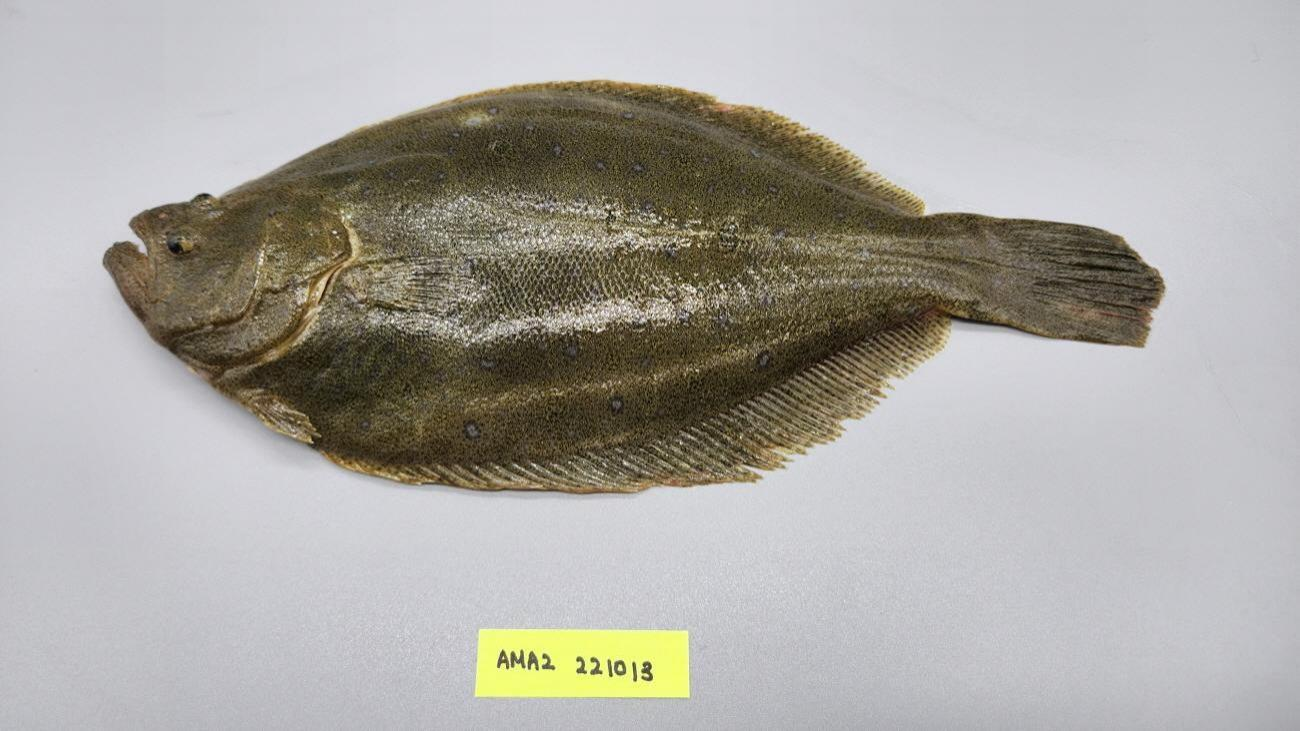MAOUY: (101, 80, 1166, 492)
